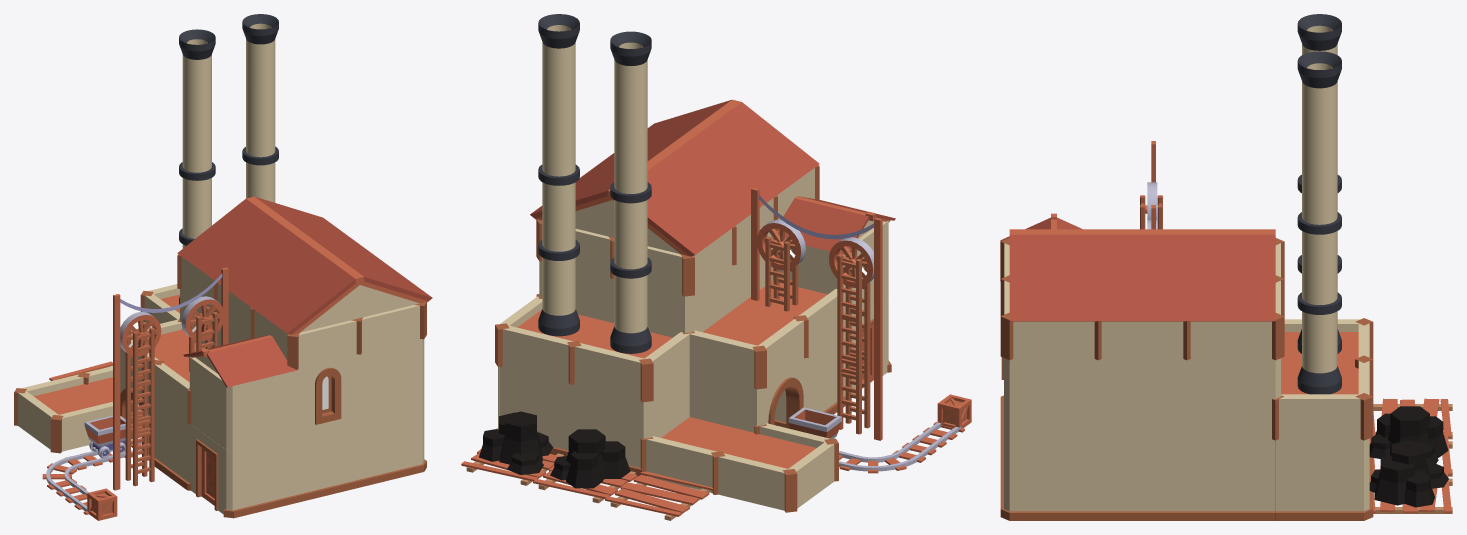
The model's file is centrale_electrique_au_charbon.glb.
The picture shows the model from 3 angles, left to right: view 1: azimuth 30°, elevation 25°; view 2: azimuth 150°, elevation 25°; view 3: azimuth 270°, elevation 25°; orthographic projection. The views are drawn at different scales.
Parts seen in each view (by area): view 1: mergedBlocks(Clone); view 2: mergedBlocks(Clone); view 3: mergedBlocks(Clone).
Part boxes in pixels (x1,y1,x2,y2): mergedBlocks(Clone): (14,14,432,520); mergedBlocks(Clone): (461,14,971,520); mergedBlocks(Clone): (1000,14,1452,520).
Bounding box in the file's own units: 4.9 × 5.51 × 5.11.
Materials: 1 (1 with a texture image).
